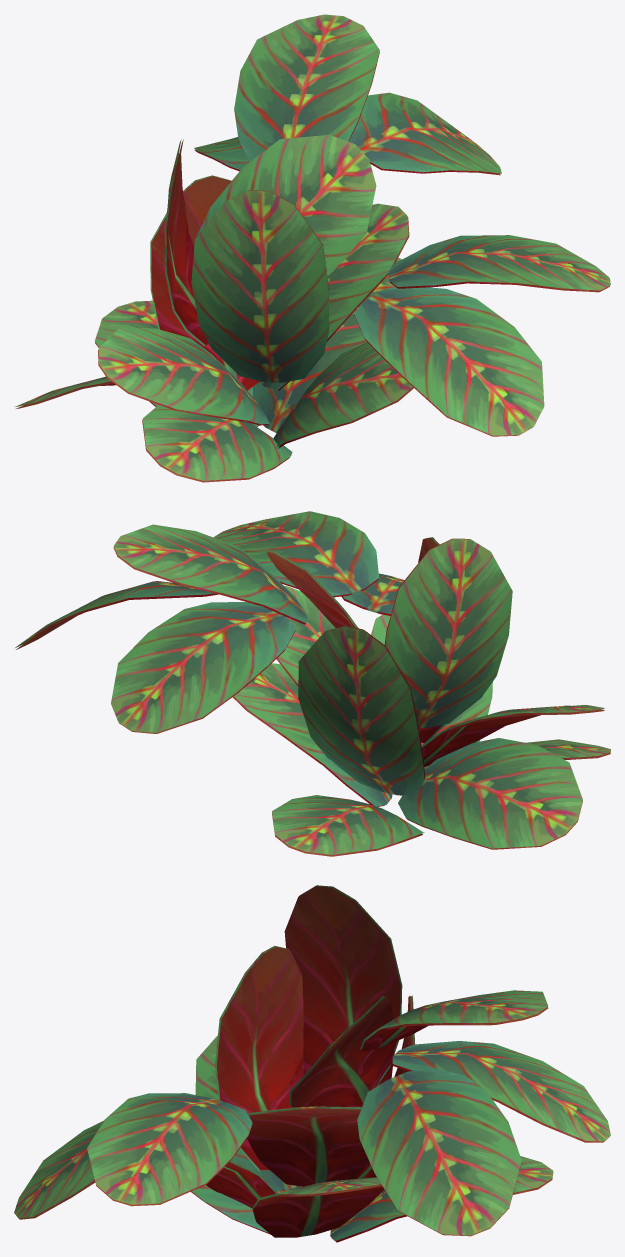
The model's file is mesh_maranta.fbx.
The picture shows the model from 3 angles, top to bottom: view 1: azimuth 30°, elevation 25°; view 2: azimuth 150°, elevation 25°; view 3: azimuth 270°, elevation 25°; orthographic projection. The views are drawn at different scales.
Visible parts, largest first — view 1: maranta; view 2: maranta; view 3: maranta.
Part boxes in pixels (left/top/right/bottom): maranta: left=15, top=14, right=610, bottom=482; maranta: left=14, top=511, right=610, bottom=856; maranta: left=14, top=885, right=610, bottom=1242.
Size of the model in its own units: 0.6831 by 0.3873 by 0.655.
